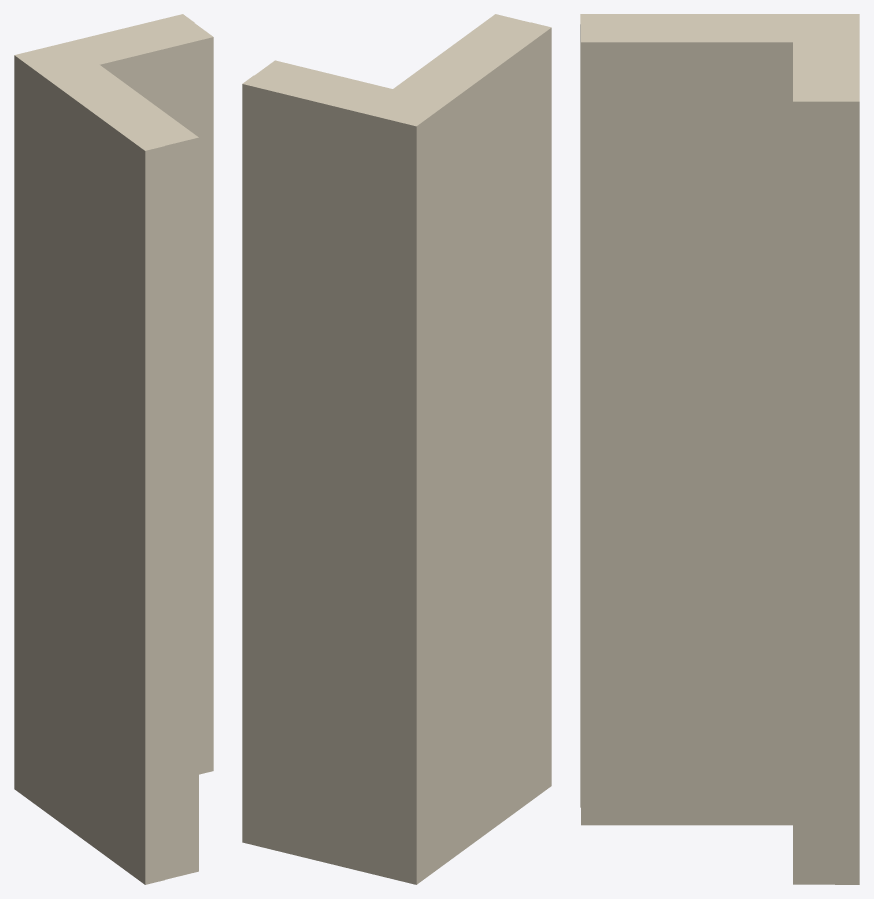
3 renders of one model, left to right at view 1: azimuth 30°, elevation 25°; view 2: azimuth 150°, elevation 25°; view 3: azimuth 270°, elevation 25°, orthographic. The views are drawn at different scales.
Parts seen in each view (by area): view 1: A-GF-WALL-004; view 2: A-GF-WALL-004; view 3: A-GF-WALL-004.
Part boxes in pixels (x1=…): A-GF-WALL-004: x1=14, y1=14, x2=213, y2=884; A-GF-WALL-004: x1=242, y1=14, x2=551, y2=884; A-GF-WALL-004: x1=580, y1=14, x2=859, y2=884.
Size of the model in its own units: 0.654 by 2.72 by 0.879.
